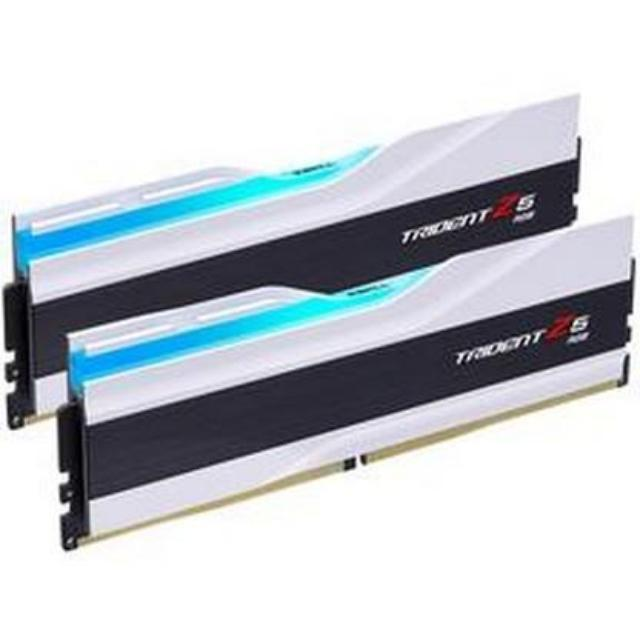RAM: (0, 73, 640, 556)
